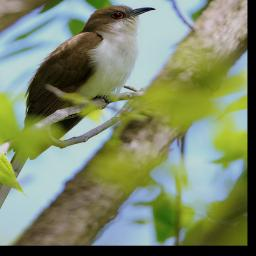Cuckoo: (0, 2, 157, 232)
